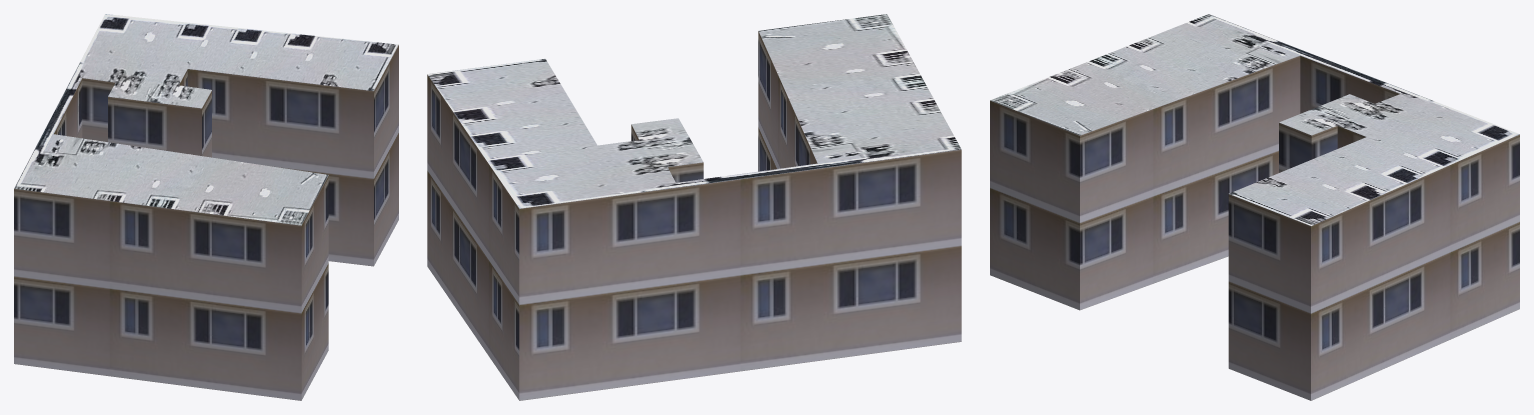
The model's file is ResTex__2321.fbx.
The picture shows the model from 3 angles, left to right: view 1: azimuth 30°, elevation 25°; view 2: azimuth 150°, elevation 25°; view 3: azimuth 270°, elevation 25°; orthographic projection. The views are drawn at different scales.
Visible parts, largest first — view 1: CityEngineMaterial_21_m, CityEngineMaterial_m; view 2: CityEngineMaterial_21_m, CityEngineMaterial_m; view 3: CityEngineMaterial_21_m, CityEngineMaterial_m.
Boxes of the visible parts, x1,y1,x2,y2 form: CityEngineMaterial_21_m: (14,45,398,400); CityEngineMaterial_m: (14,14,398,225); CityEngineMaterial_21_m: (427,31,961,400); CityEngineMaterial_m: (427,14,961,208); CityEngineMaterial_21_m: (990,55,1519,400); CityEngineMaterial_m: (990,14,1519,225).
Size of the model in its own units: 15.61 by 6 by 16.48.
Materials: 2 (2 with a texture image).
